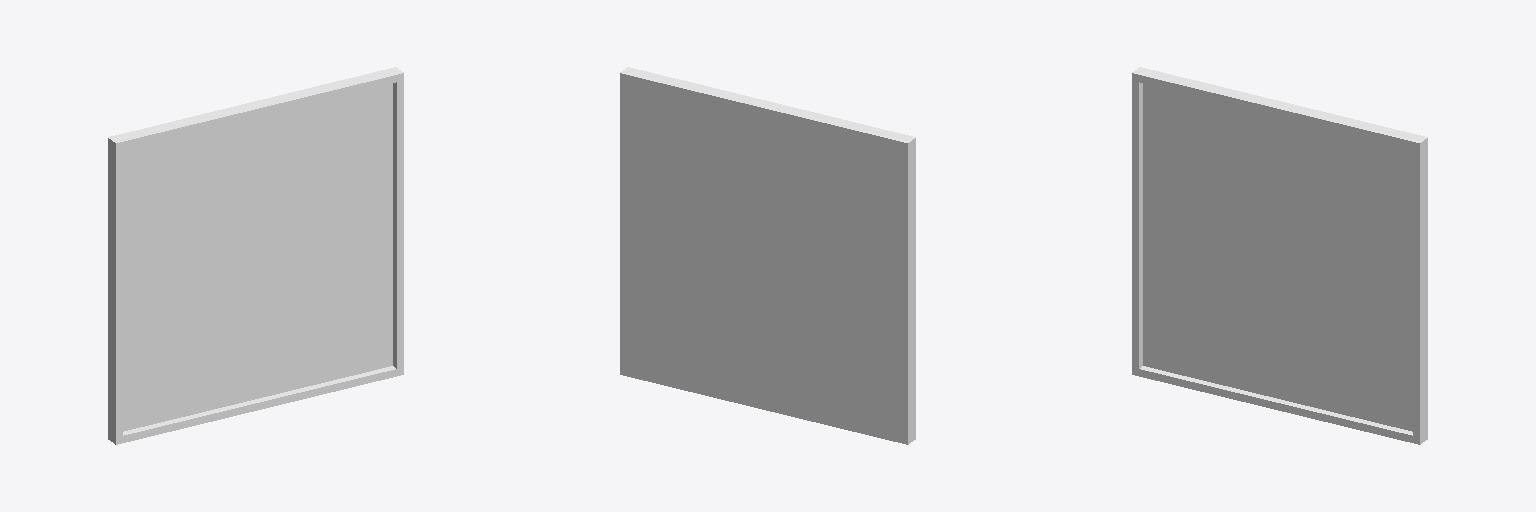
File: BACK.obj
3 views of the same model, side by side, from view 1: azimuth 30°, elevation 25°; view 2: azimuth 150°, elevation 25°; view 3: azimuth 330°, elevation 25° (orthographic).
Parts seen in each view (by area): view 1: BlueWall1B-0; view 2: BlueWall1B-0; view 3: BlueWall1B-0.
Boxes of the visible parts, <box> form: BlueWall1B-0: <box>108,67,403,444</box>; BlueWall1B-0: <box>620,67,915,444</box>; BlueWall1B-0: <box>1132,67,1427,444</box>.
Bounding box in the file's own units: 4 × 4 × 0.2.